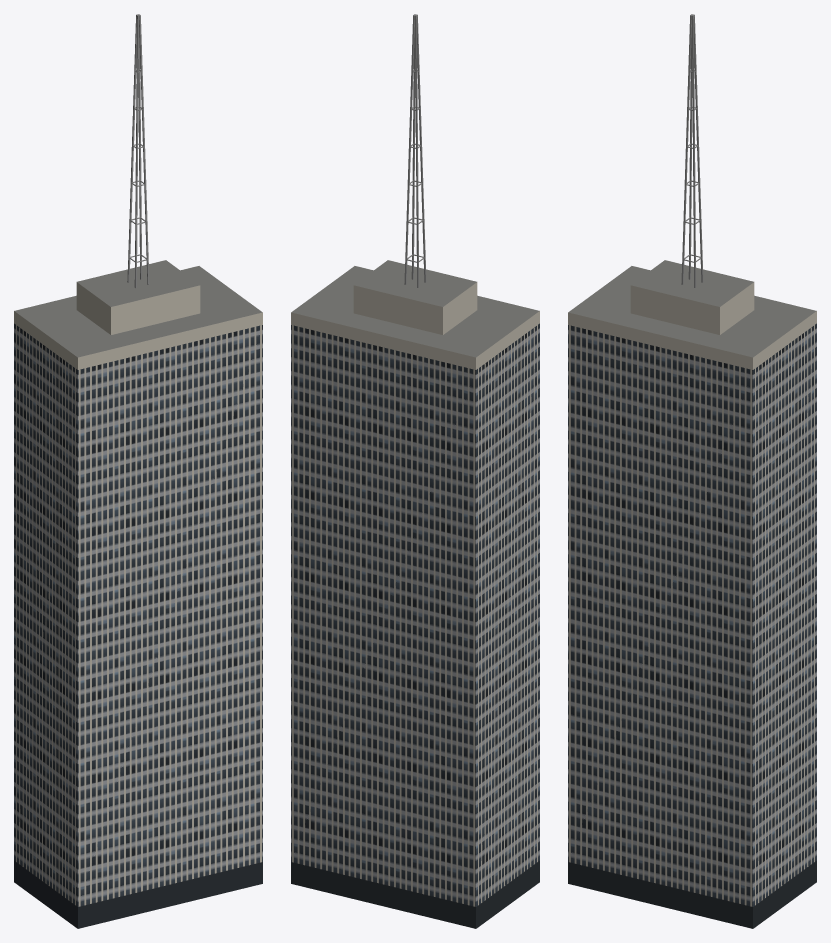
The model's file is one_prudential.glb.
The picture shows the model from 3 angles, left to right: view 1: azimuth 30°, elevation 25°; view 2: azimuth 150°, elevation 25°; view 3: azimuth 330°, elevation 25°; orthographic projection.
Parts seen in each view (by area): view 1: one_prudential; view 2: one_prudential; view 3: one_prudential.
Part boxes in pixels (x1,y1,x2,y2): one_prudential: (14, 14, 262, 928); one_prudential: (291, 14, 539, 928); one_prudential: (568, 14, 816, 928).
Bounding box in the file's own units: 62 × 278 × 37.
Materials: 2 (2 with a texture image).
